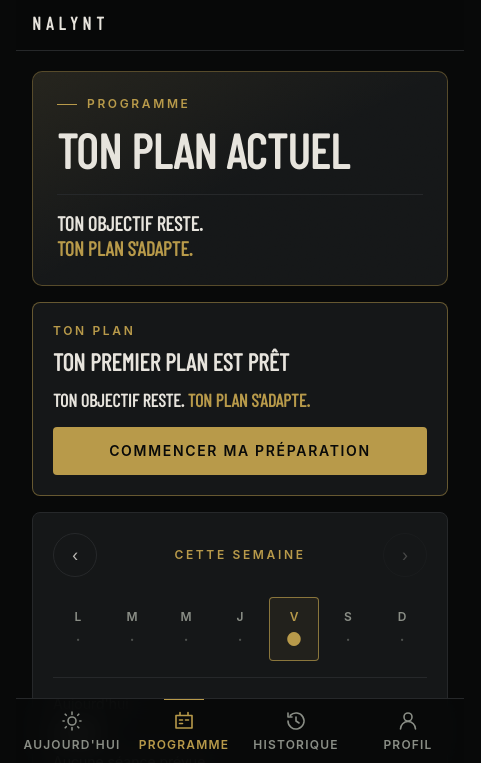
it: TrainingPlanPreviewPage — acceptance (V0.5_050, UX-06) › draft → accept success → re-fetch returns accepted → the draft card disappears
The width and height of the screenshot is (481, 763).
Expected: the heading "Ton premier plan est prêt" is shown, left=53, top=347, right=289, bottom=376
What coordinates should you click on to do the following:
click the button "Commencer ma préparation"
I would click on:
 (240, 451)
Its box is left=53, top=427, right=427, bottom=475.
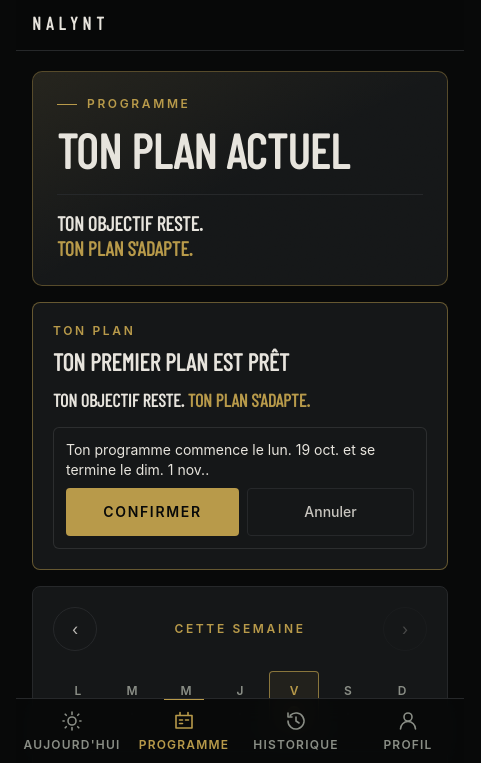
Expected: the button "Confirmer" is enabled
What coordinates should you click on to do the following:
click the button "Confirmer"
I would click on:
 (152, 512)
Its box is left=66, top=488, right=239, bottom=536.
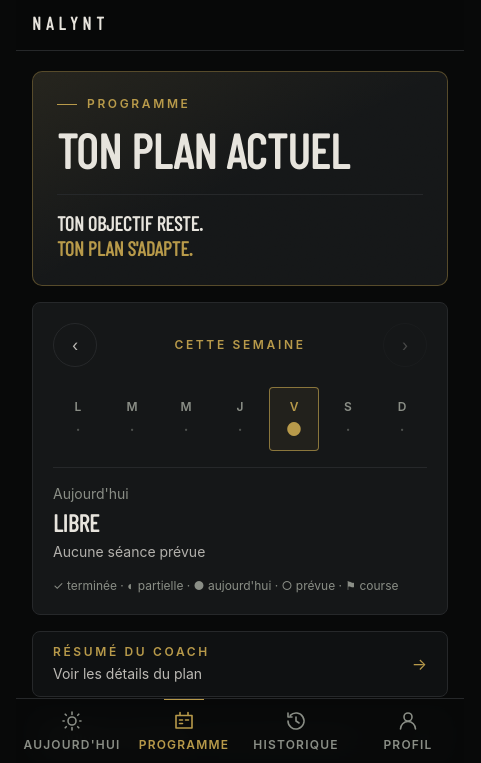
Expected: the button "Commencer ma préparation" is not shown
Expected: the heading "Ton premier plan est prêt" is gone
